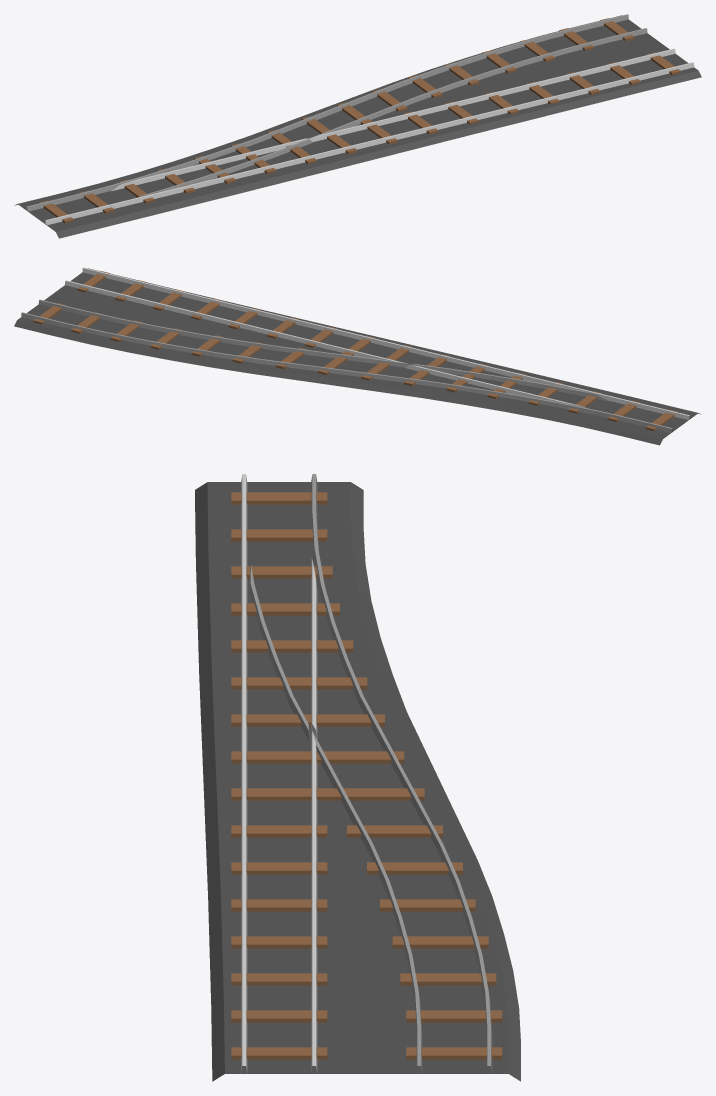
The model's file is 1-2_split_left_large.fbx.
The picture shows the model from 3 angles, top to bottom: view 1: azimuth 30°, elevation 25°; view 2: azimuth 150°, elevation 25°; view 3: azimuth 270°, elevation 25°; orthographic projection. The views are drawn at different scales.
Parts seen in each view (by area): view 1: 1-2_split_left_large; view 2: 1-2_split_left_large; view 3: 1-2_split_left_large.
Part boxes in pixels (x1,y1,x2,y2): 1-2_split_left_large: (14,14,701,238); 1-2_split_left_large: (14,267,700,445); 1-2_split_left_large: (195,474,520,1081).
Size of the model in its own units: 16 by 0.2 by 3.73.
